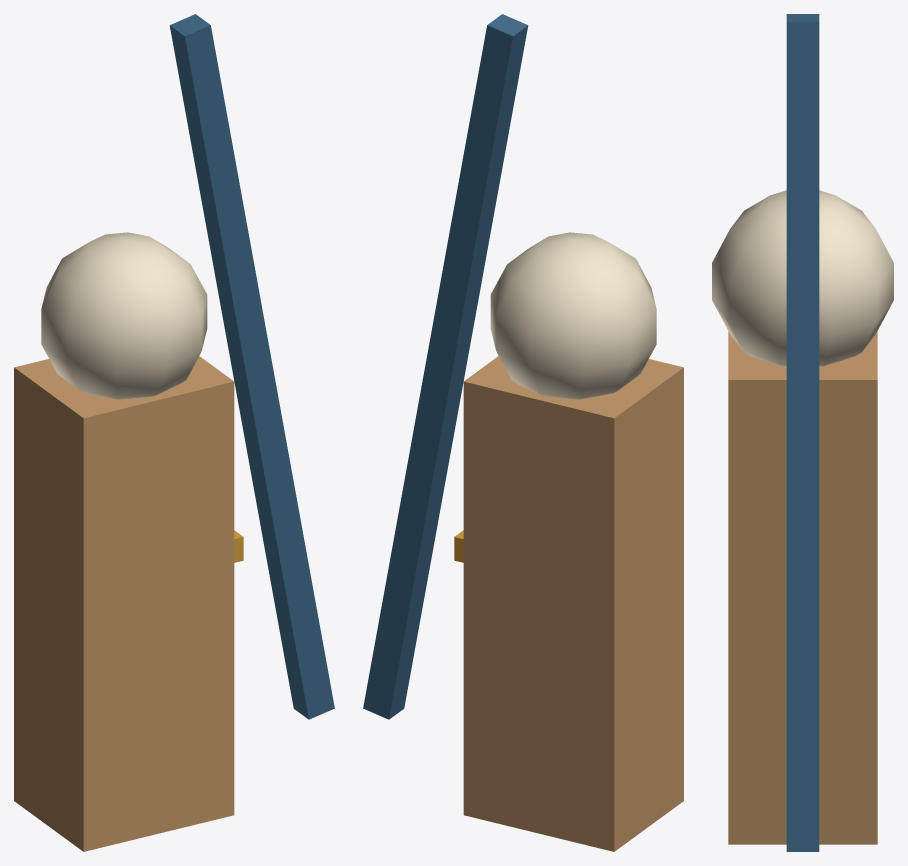
The model's file is jian_xiu.glb.
3 renders of one model, left to right at view 1: azimuth 30°, elevation 25°; view 2: azimuth 150°, elevation 25°; view 3: azimuth 270°, elevation 25°, orthographic. The views are drawn at different scales.
Parts seen in each view (by area): view 1: _MeshInstance3D_6, _MeshInstance3D_8, _MeshInstance3D_7; view 2: _MeshInstance3D_6, _MeshInstance3D_8, _MeshInstance3D_7; view 3: _MeshInstance3D_6, _MeshInstance3D_8, _MeshInstance3D_7.
Boxes of the visible parts, <box> form: _MeshInstance3D_6: <box>14,356,234,851</box>; _MeshInstance3D_8: <box>169,14,334,719</box>; _MeshInstance3D_7: <box>41,232,207,399</box>; _MeshInstance3D_6: <box>463,356,683,851</box>; _MeshInstance3D_8: <box>363,14,528,719</box>; _MeshInstance3D_7: <box>490,232,656,399</box>; _MeshInstance3D_6: <box>728,331,877,844</box>; _MeshInstance3D_8: <box>786,14,819,851</box>; _MeshInstance3D_7: <box>712,190,893,366</box>.
Size of the model in its own units: 0.3696 by 0.9757 by 0.195.
